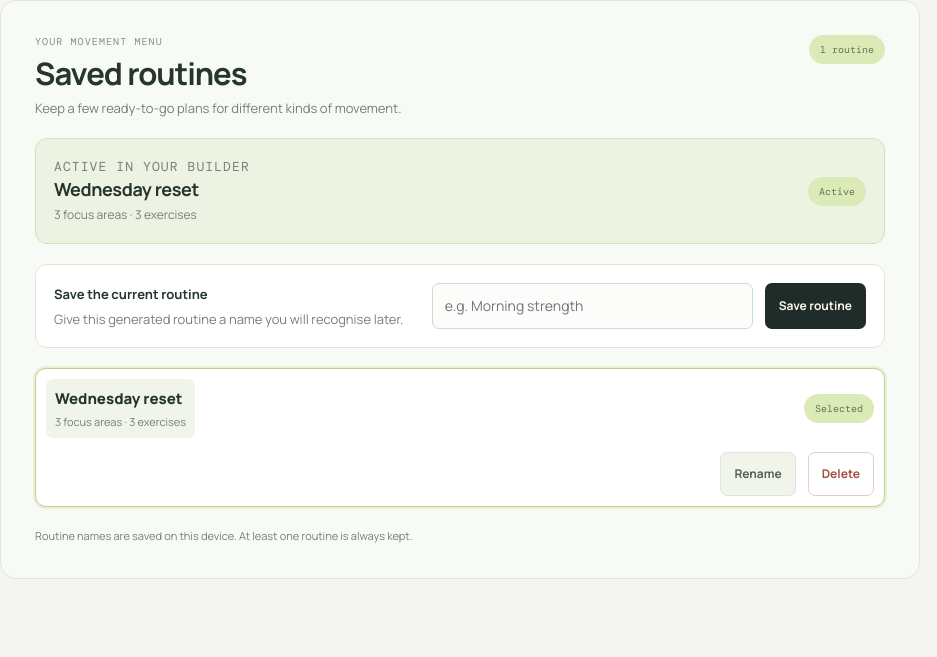
Test: RoutineManager › validates a routine name before saving
The image size is (937, 657).
What coordinates should you click on to do the following:
click the button "Save routine"
I would click on:
 (815, 306)
Its box is [765,283,866,329].
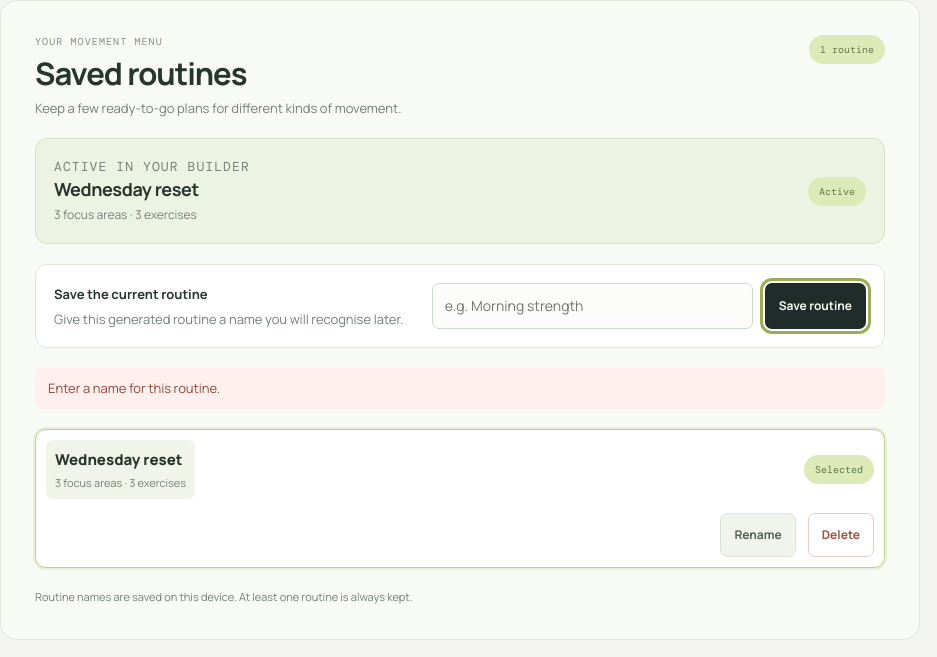
Result: the message reads "Enter a name for this routine." at [48,379,220,397]
